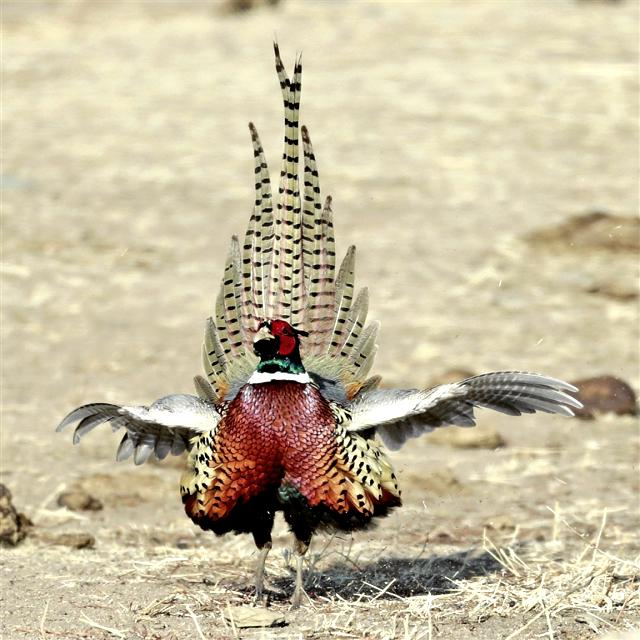Phasianus Colchicus: (195, 31, 384, 408)
